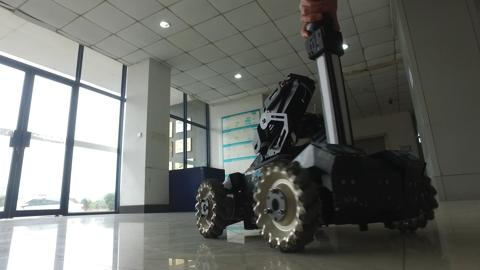chariot: (189, 11, 442, 252)
